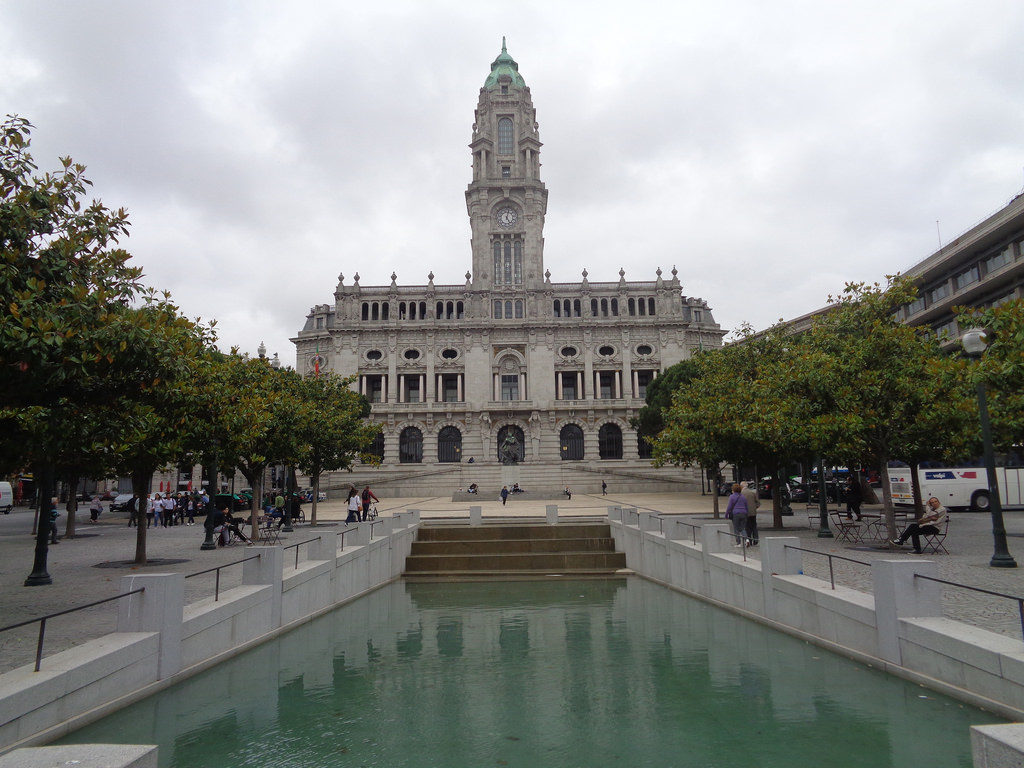camara: (287, 32, 731, 493)
